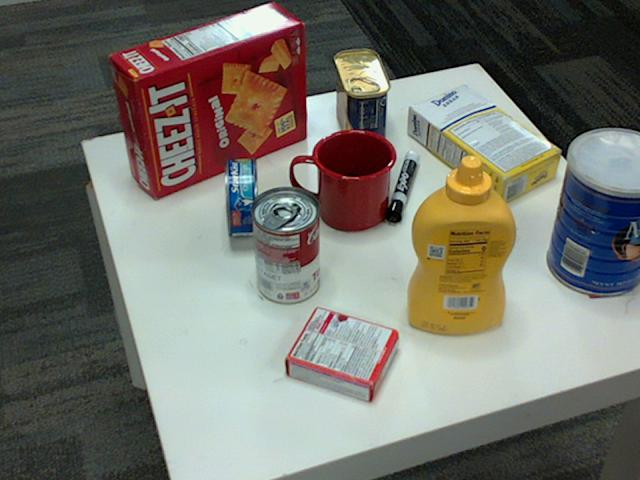cracker_box: (108, 0, 306, 196)
gelatin_box: (283, 307, 396, 404)
large_marker: (385, 154, 419, 222)
master_chef_can: (548, 128, 639, 296)
mug: (291, 127, 397, 230)
mustard_bottle: (406, 156, 516, 333)
potted_meat_can: (331, 50, 388, 149)
sugar_box: (408, 85, 563, 204)
tomato_soup_can: (251, 187, 320, 304)
tuna_fish_can: (223, 158, 259, 237)
